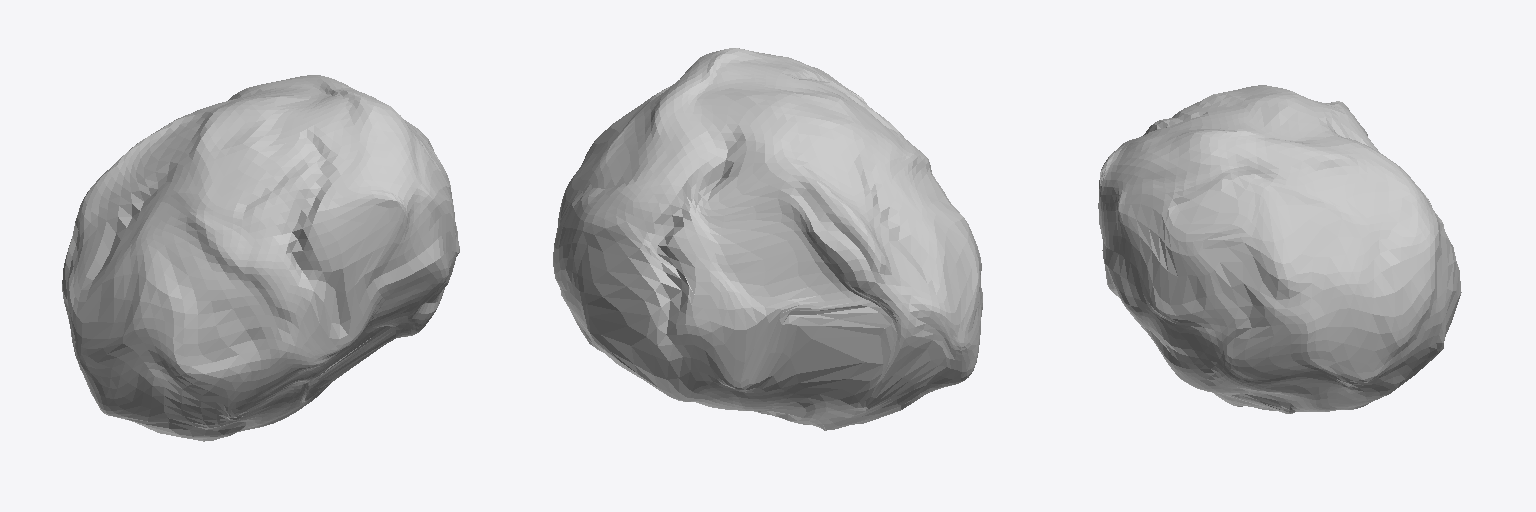
Rendered from comet.obj.
3 renders of one model, left to right at view 1: azimuth 30°, elevation 25°; view 2: azimuth 150°, elevation 25°; view 3: azimuth 270°, elevation 25°, orthographic.
Visible parts, largest first — view 1: Haley's_Comet; view 2: Haley's_Comet; view 3: Haley's_Comet.
Boxes of the visible parts, x1=… form: Haley's_Comet: x1=62, y1=75, x2=459, y2=441; Haley's_Comet: x1=553, y1=48, x2=982, y2=430; Haley's_Comet: x1=1098, y1=85, x2=1461, y2=413.
Bounding box in the file's own units: 3.12 × 2.59 × 2.63.